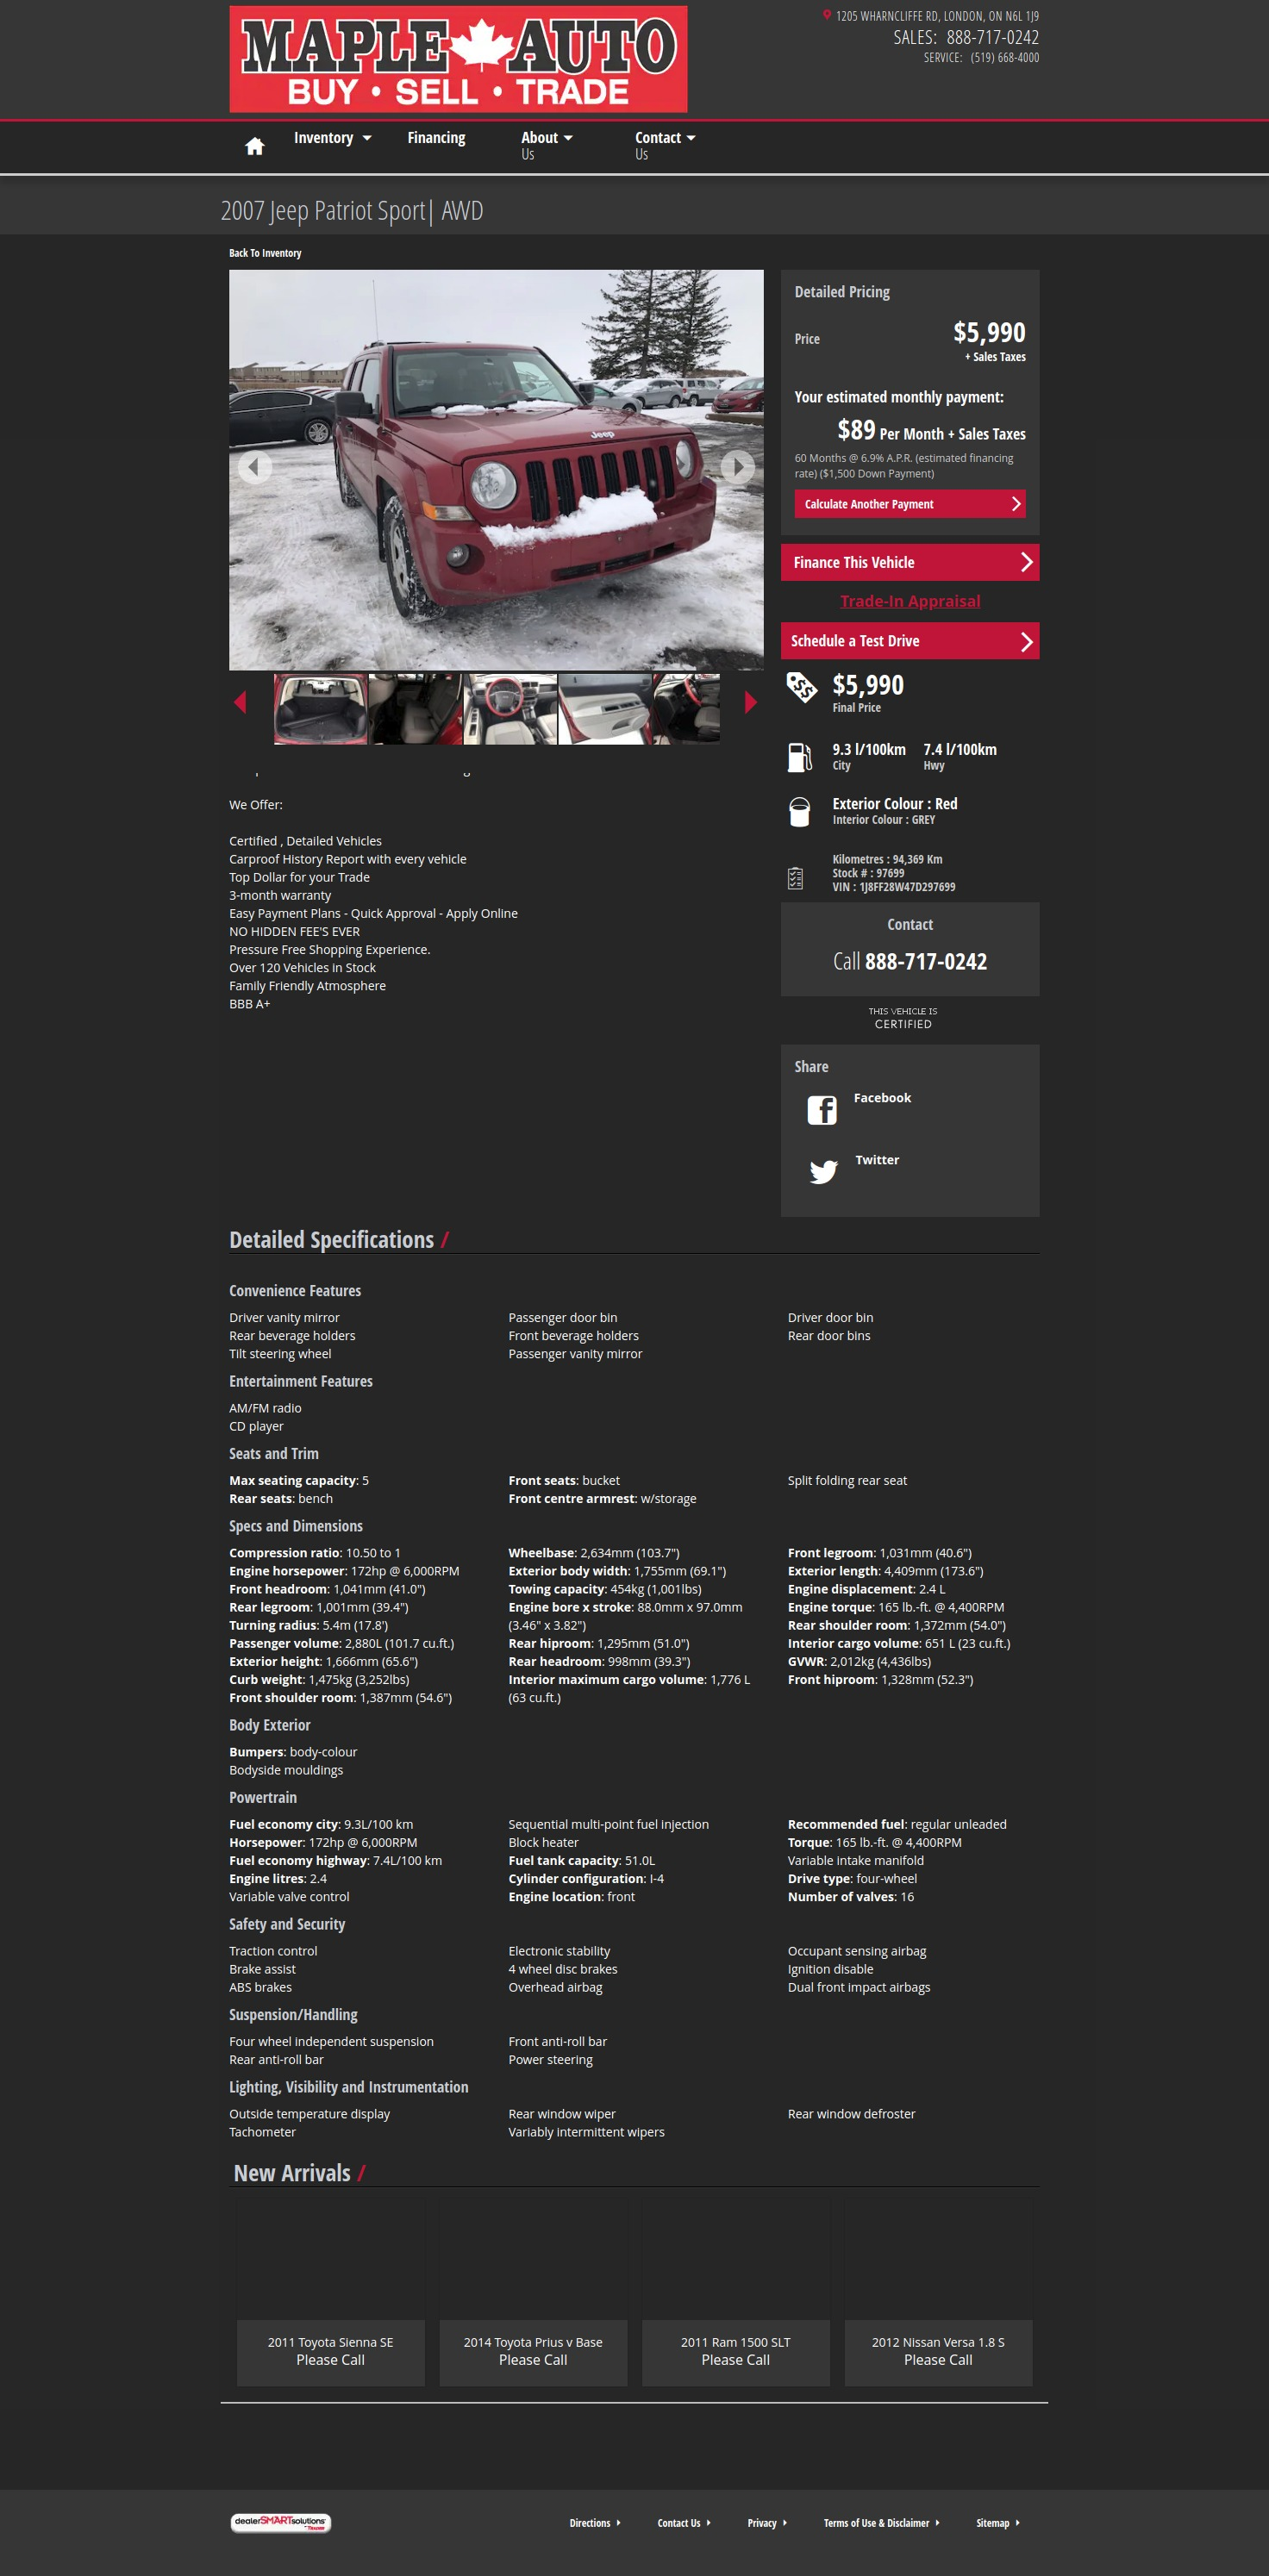car: (745, 690, 758, 716)
